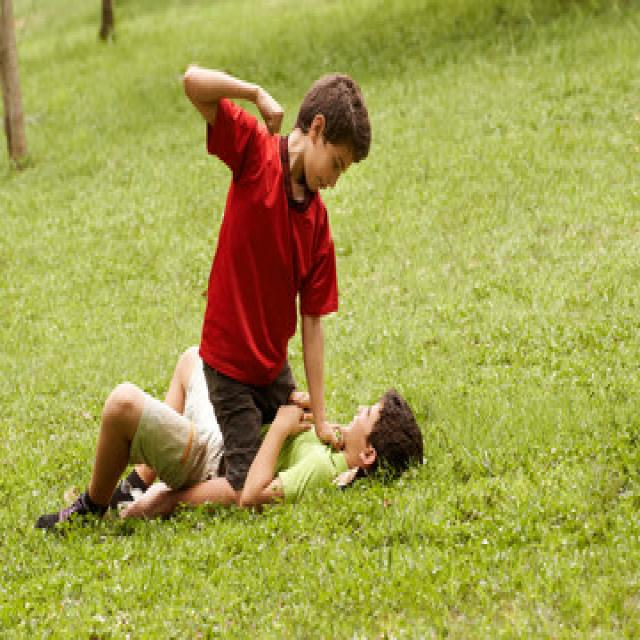fight: (176, 61, 422, 526)
